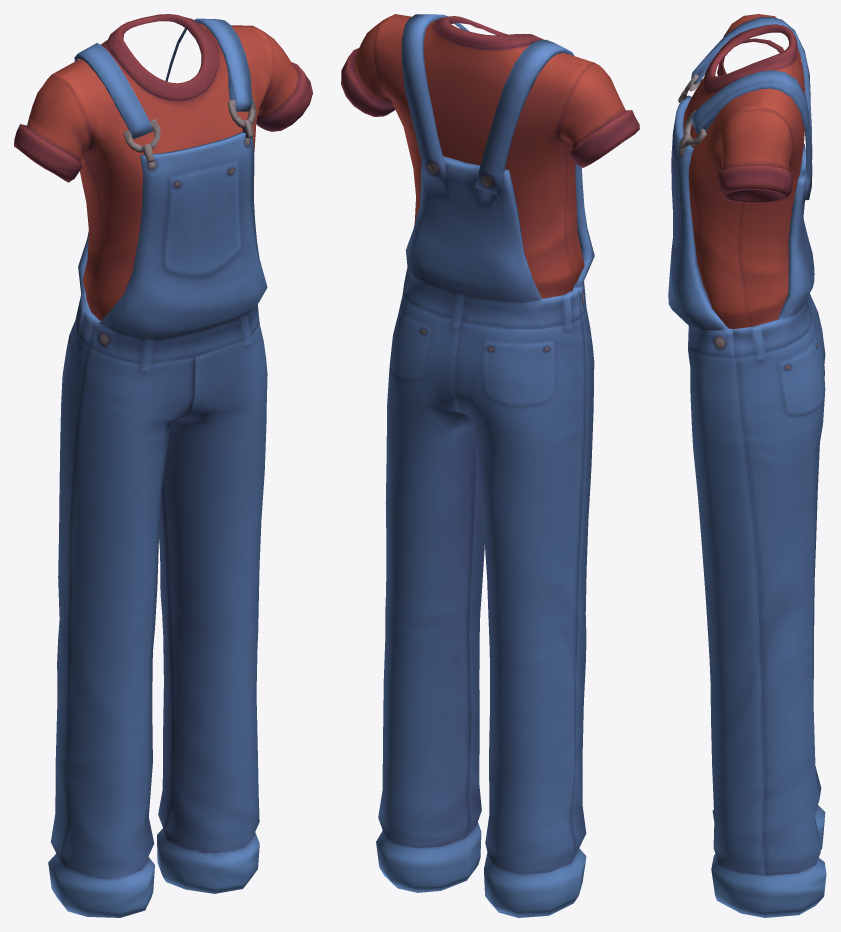
Rendered from Model_Outfit.glb.
3 renders of one model, left to right at view 1: azimuth 30°, elevation 25°; view 2: azimuth 150°, elevation 25°; view 3: azimuth 270°, elevation 25°, orthographic. The views are drawn at different scales.
Visible parts, largest first — view 1: TOP (1); view 2: TOP (1); view 3: TOP (1).
Part boxes in pixels (x1,y1,x2,y2): TOP (1): (14,14,312,917); TOP (1): (341,14,639,917); TOP (1): (668,14,826,917).
Size of the model in its own units: 0.4244 by 1.22 by 0.2095.
Materials: 1 (1 with a texture image).
